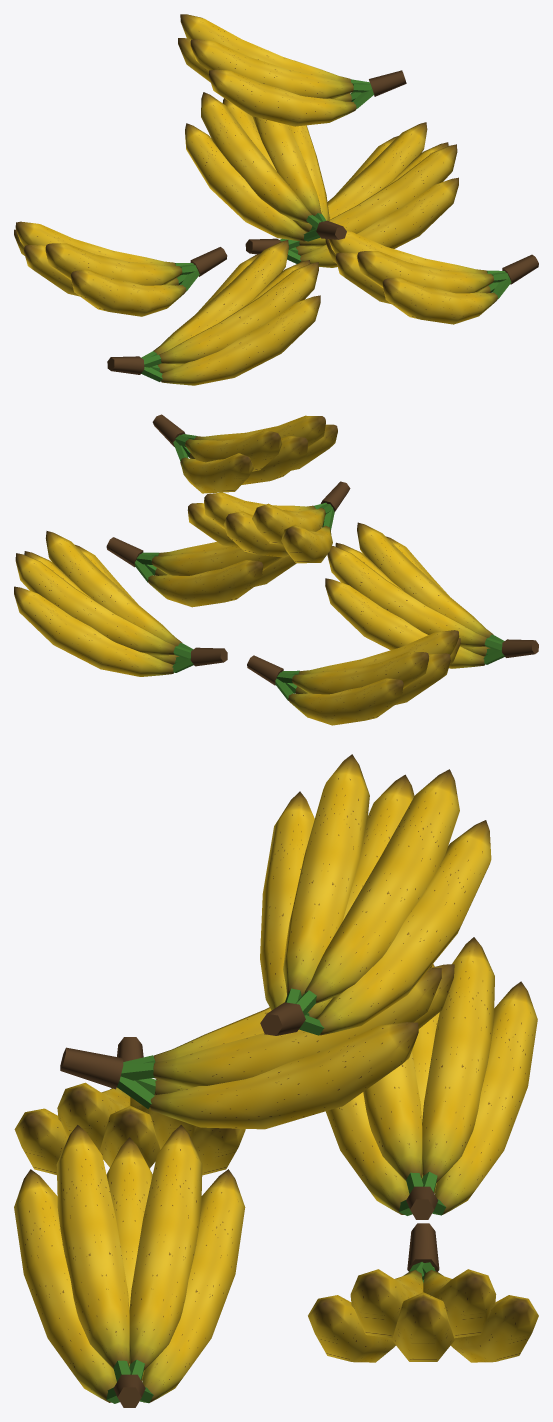
The model's file is sk_produce_pile_banana.glb.
The picture shows the model from 3 angles, top to bottom: view 1: azimuth 30°, elevation 25°; view 2: azimuth 150°, elevation 25°; view 3: azimuth 270°, elevation 25°; orthographic projection. The views are drawn at different scales.
Visible parts, largest first — view 1: sk_produce_pile_banana; view 2: sk_produce_pile_banana; view 3: sk_produce_pile_banana.
Boxes of the visible parts, x1,y1,x2,y2 form: sk_produce_pile_banana: (14,14,538,385); sk_produce_pile_banana: (14,414,538,725); sk_produce_pile_banana: (14,754,538,1407).
Bounding box in the file's own units: 0.417 × 0.2531 × 0.2605.
Materials: 1 (1 with a texture image).
